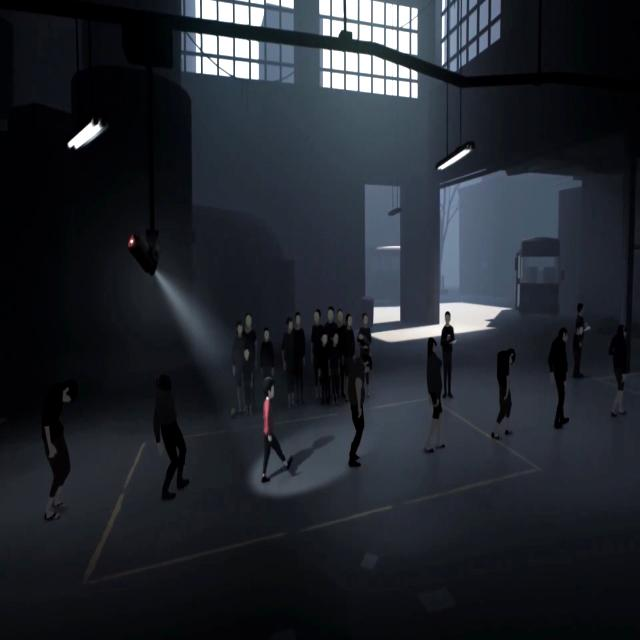boy: (260, 375, 292, 484)
human: (440, 312, 456, 402), (310, 309, 323, 406), (231, 320, 244, 414), (572, 302, 588, 378), (342, 316, 355, 403), (294, 313, 306, 405), (281, 316, 292, 406), (261, 328, 274, 378), (357, 314, 370, 354), (244, 312, 257, 346), (324, 306, 337, 331)
zombie: (40, 378, 77, 519), (152, 372, 190, 499), (347, 350, 372, 468), (426, 339, 447, 452), (548, 331, 571, 426), (493, 347, 516, 438), (609, 323, 628, 418)
